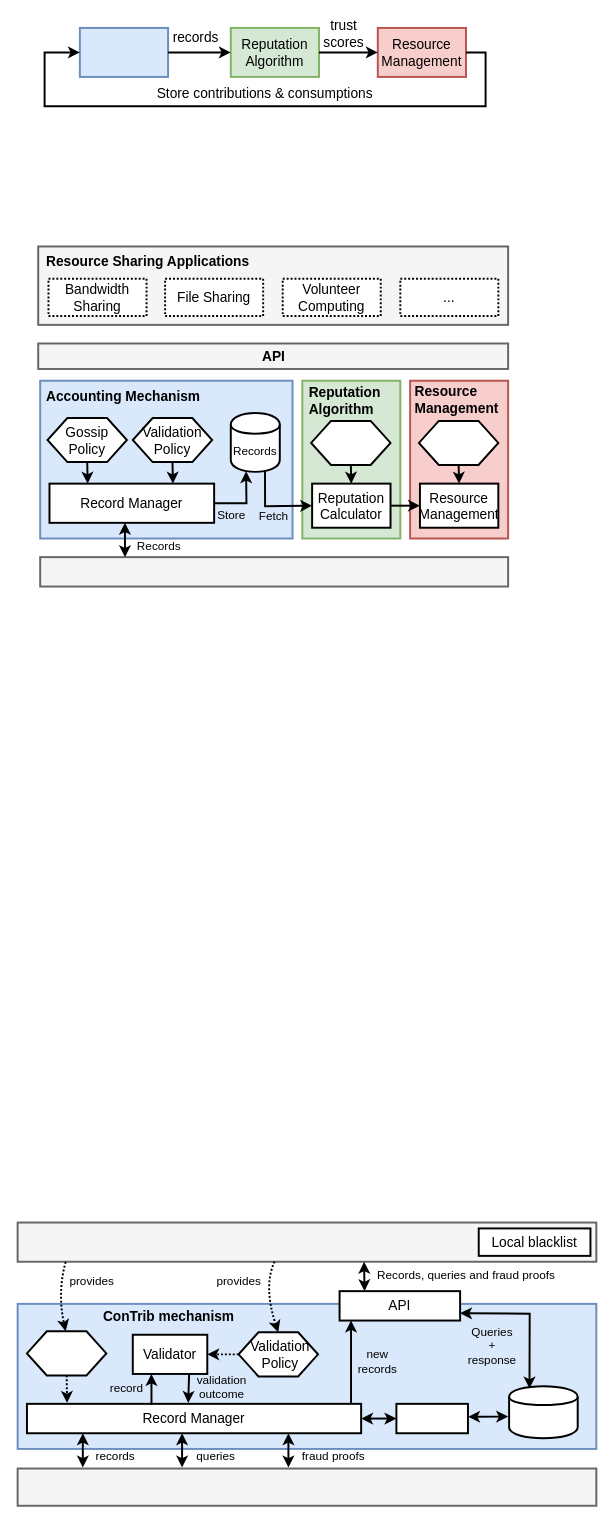
Image size: 614x1524. Some labels were removed from this diagram. Each missing label, with the box of its shape:
Accounting (this work): (78, 26, 169, 77)
Allocation Policy: (417, 419, 499, 466)
Cache: (395, 1402, 468, 1434)
Communication Layer: (39, 556, 509, 587)
Confirm Policy: (25, 1330, 107, 1376)
Database: (508, 1385, 578, 1439)
Decentralized Application: (16, 1221, 597, 1262)
Network Layer: (16, 1467, 597, 1506)
Trust Policy: (310, 419, 391, 466)
